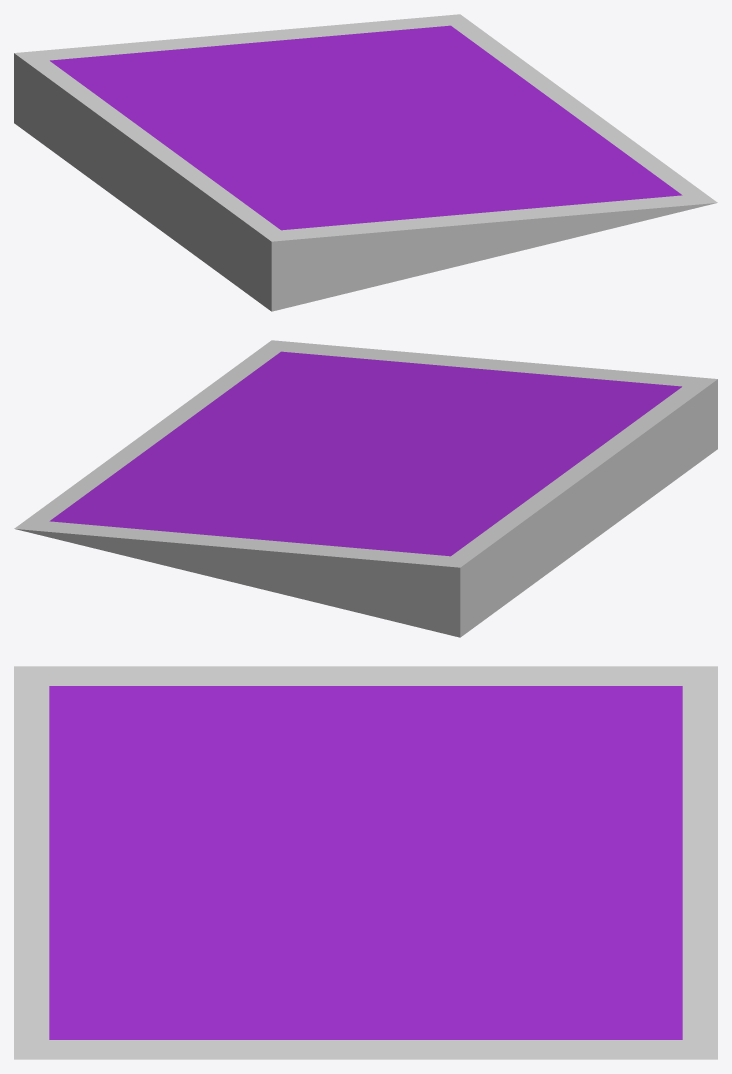
The picture shows the model from 3 angles, top to bottom: view 1: azimuth 30°, elevation 25°; view 2: azimuth 150°, elevation 25°; view 3: azimuth 270°, elevation 25°; orthographic projection. The views are drawn at different scales.
Visible parts, largest first — view 1: Cube; view 2: Cube; view 3: Cube.
Part boxes in pixels (x1,y1,x2,y2): Cube: [14, 14, 717, 311]; Cube: [14, 340, 717, 637]; Cube: [14, 666, 717, 1059].
Bounding box in the file's own units: 200 × 30 × 200.
